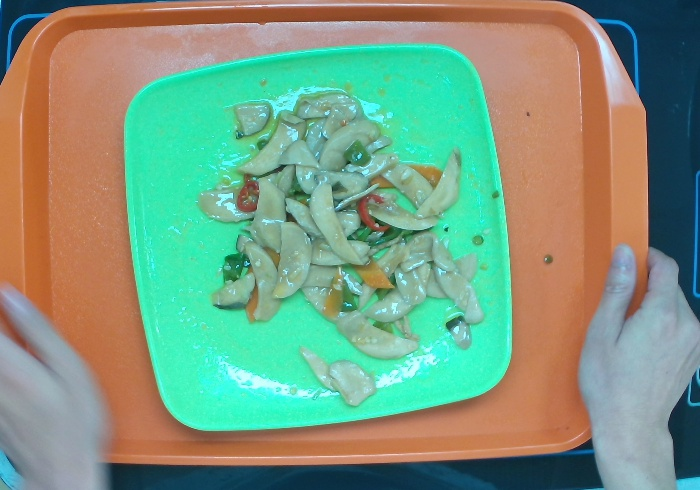ZNLD-Lv_Fang_Pan: (120, 41, 514, 433)
